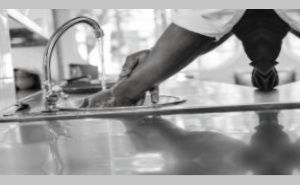washing hand: (24, 0, 201, 110)
